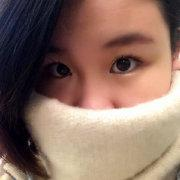WRONG: (29, 30, 168, 169)
